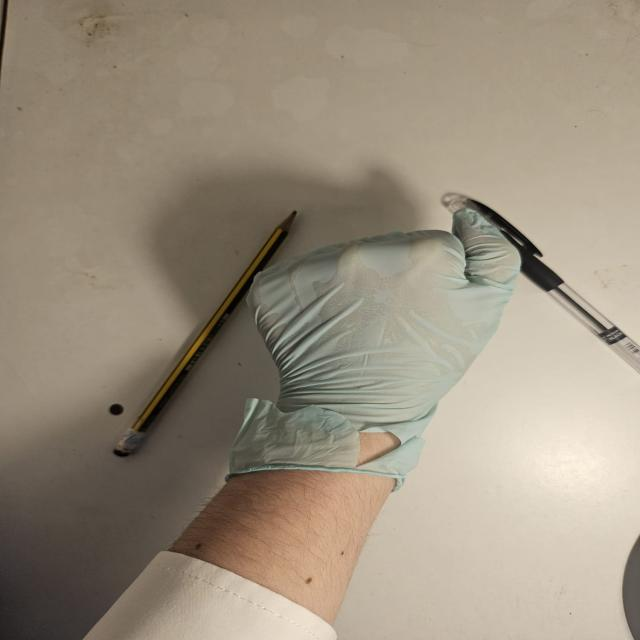gloves_damaged: (219, 206, 525, 498)
